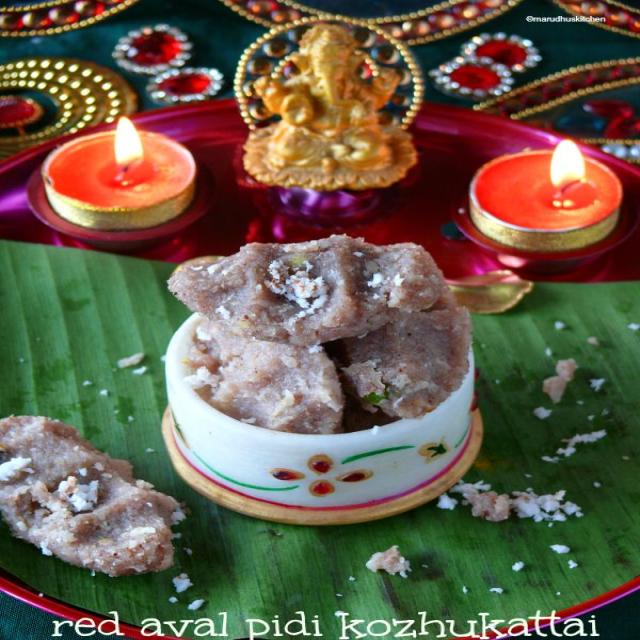pidi kolukattai: (170, 235, 444, 346), (0, 416, 181, 575), (189, 322, 343, 434), (338, 294, 470, 417)
